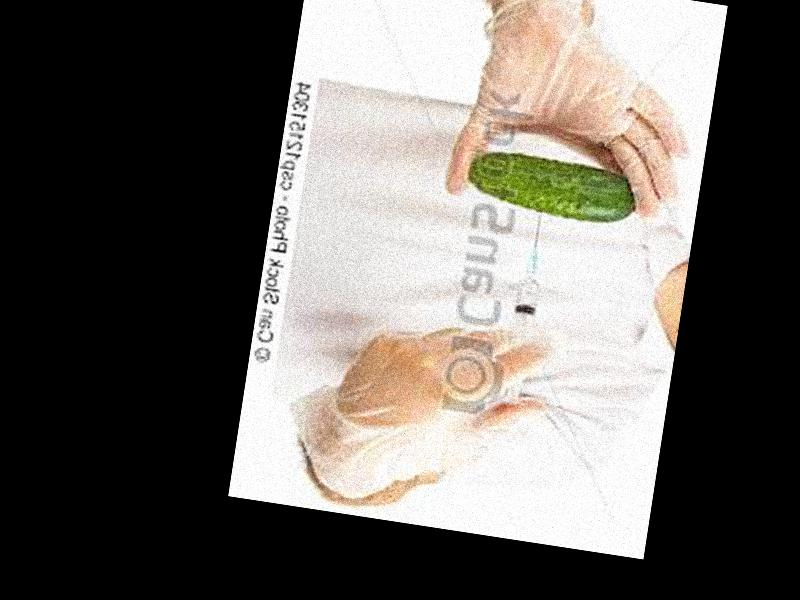Cucumber: (466, 145, 645, 226)
